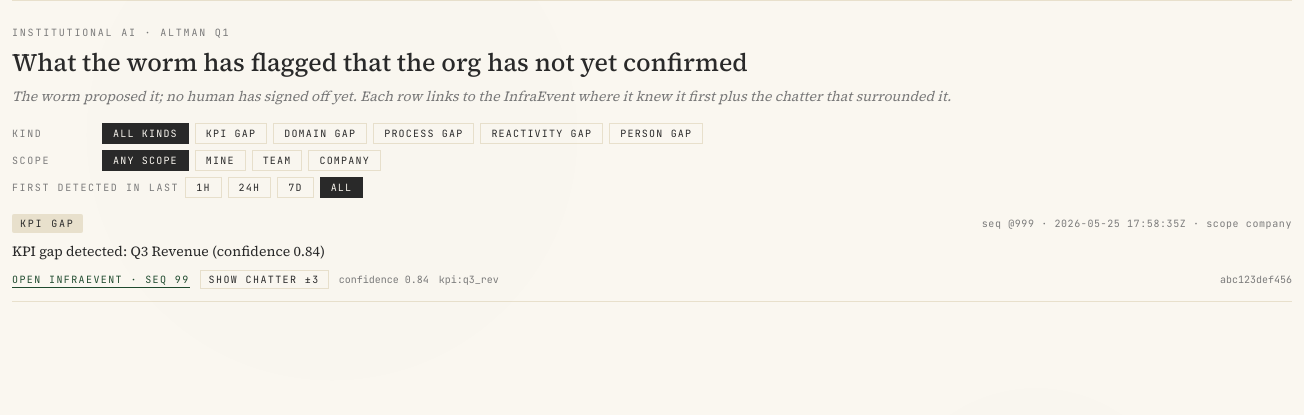
Test: FirstKnowingsTab › toggles the chatter context window on click-through
What coordinates should you click on to do the following:
click the button with test id "first-knowing-toggle-chatter-999"
I would click on:
 (264, 279)
Its box is [200,270,329,288].
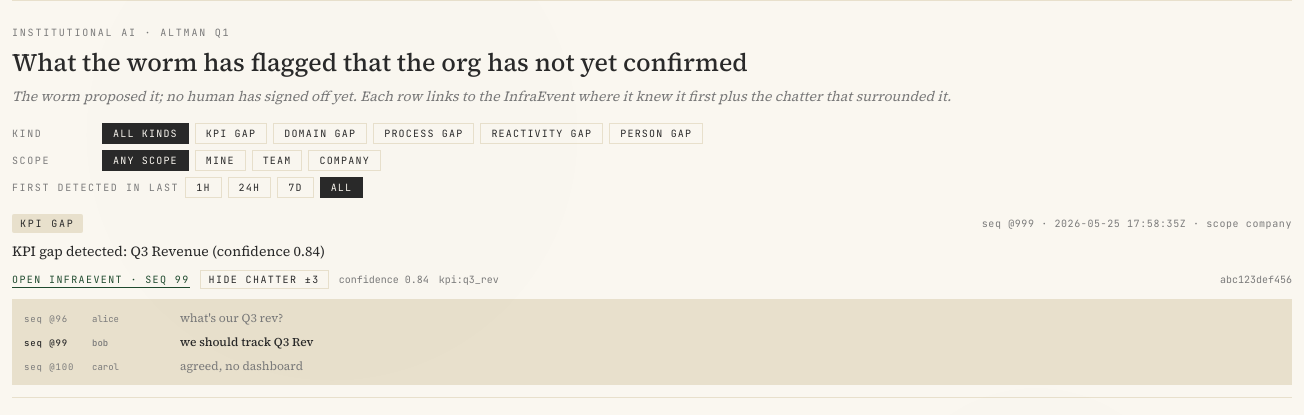
Expected: the list with test id "first-knowing-chatter-999" is shown, [12,298,1292,384]
Expected: the list item with test id "chatter-row-96" is shown, [24,310,283,326]
Expected: the list item with test id "chatter-row-100" is shown, [24,358,303,374]
// Toggle hides again.
What coordinates should you click on to do the following:
click the button with test id "first-knowing-toggle-chatter-999"
I would click on:
 (264, 279)
Its box is [200,270,329,288].
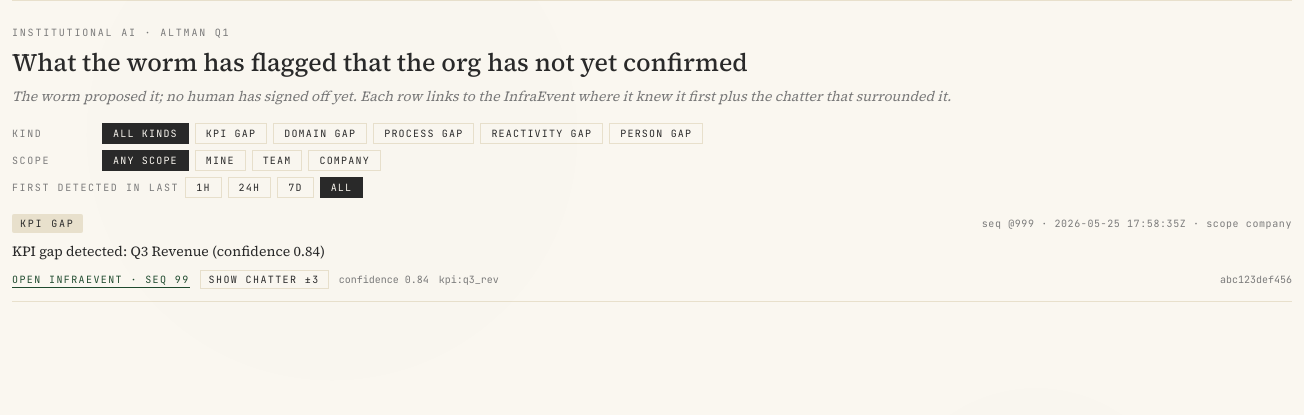
Expected: the list with test id "first-knowing-chatter-999" is gone
